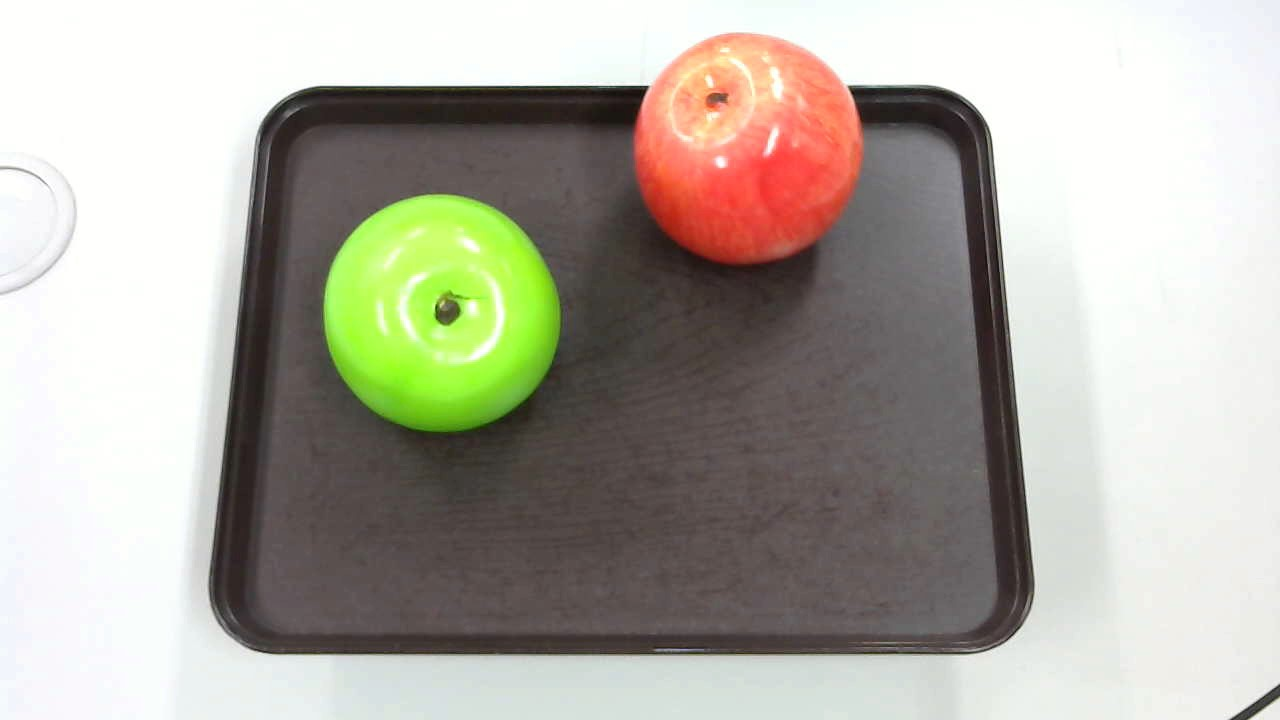green apple: (314, 184, 565, 448)
red apple: (621, 25, 866, 277)
